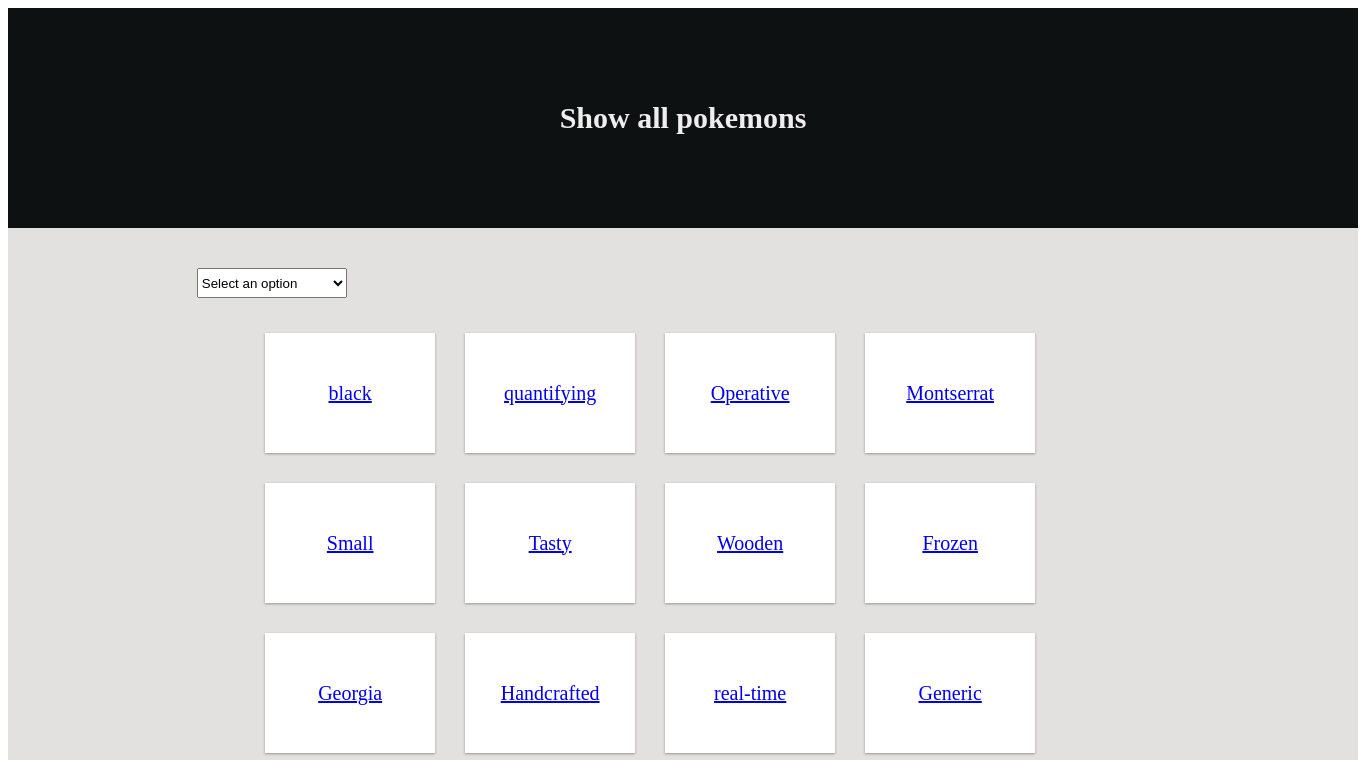
Test: HomePage › should be able to click on nextPage and reload pokemons when using filter
Select "fake-url/1/" in the dropdown at x=272, y=283, box x1=197 y1=268 x2=347 y2=298
(page scrolled)
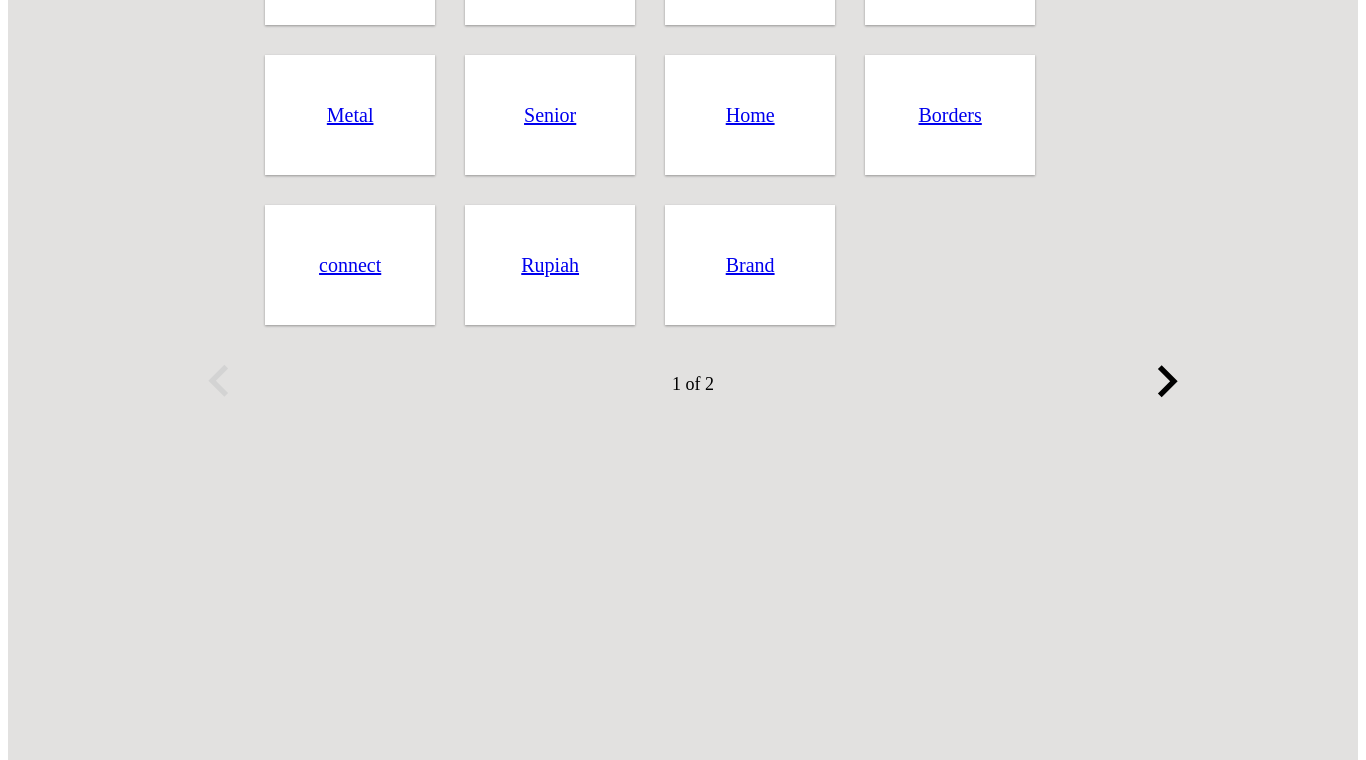
Click the 2nd button at x=1167, y=384, box x1=1135 y1=350 x2=1199 y2=418
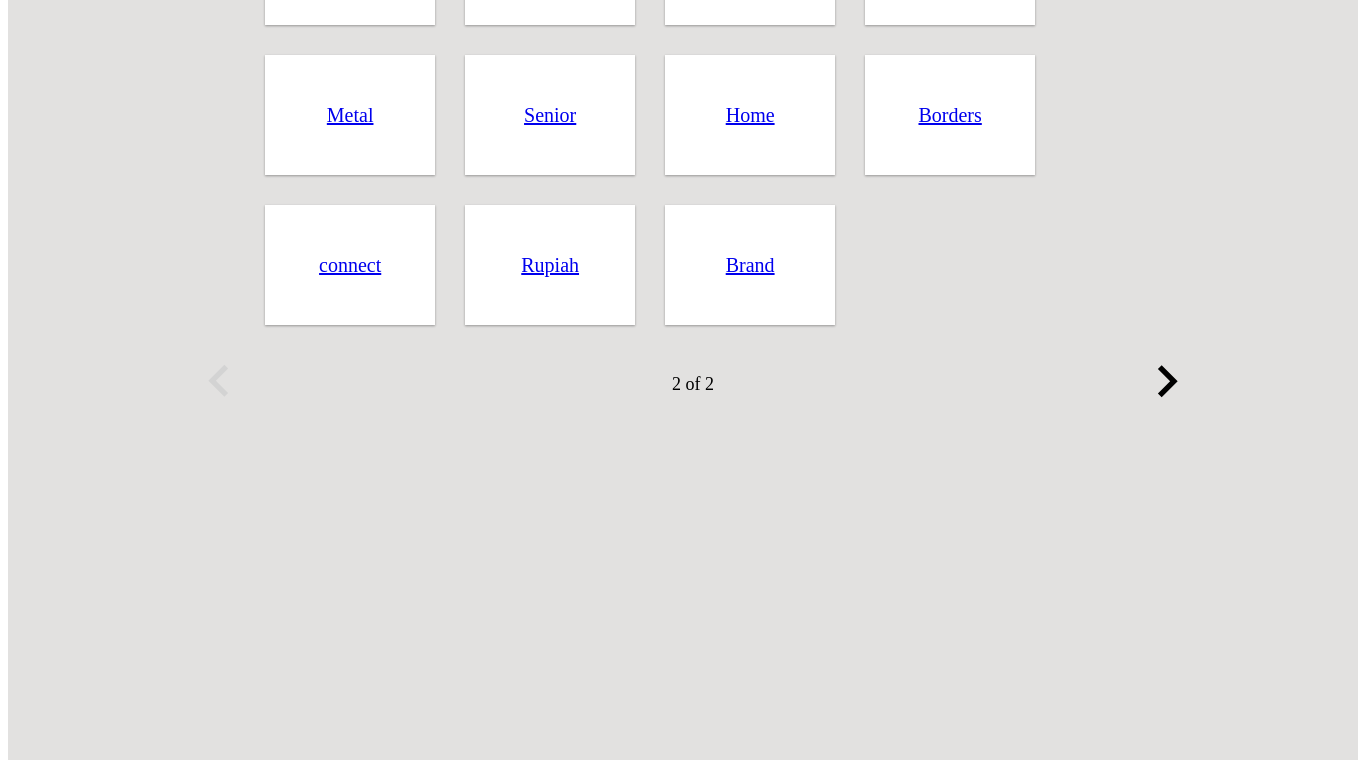
Expected: the text "2 of 2" is shown, x1=672 y1=374 x2=714 y2=394
